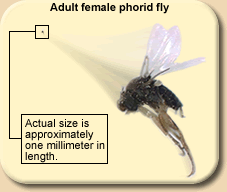phorid fly: (113, 20, 208, 176)
